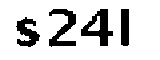2: (44, 6, 77, 51)
4: (80, 5, 116, 51)
l: (118, 4, 138, 50)
s: (13, 16, 39, 50)
